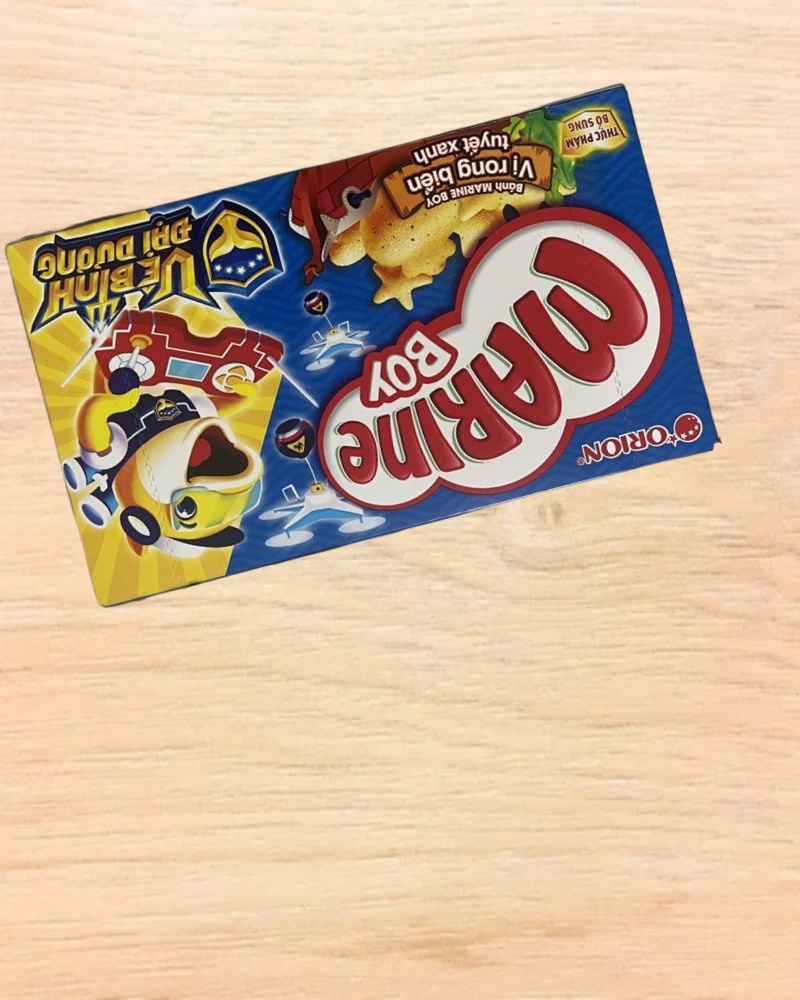Marine: (1, 78, 723, 614)
